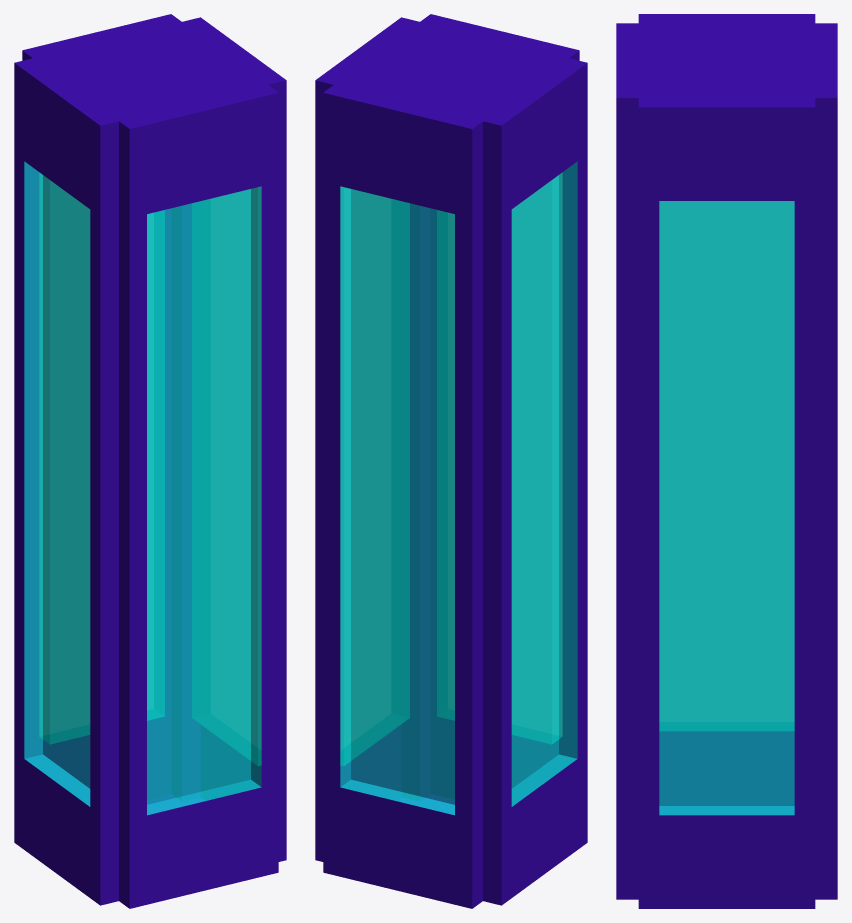
File: skyscraper.gltf
3 renders of one model, left to right at view 1: azimuth 30°, elevation 25°; view 2: azimuth 150°, elevation 25°; view 3: azimuth 270°, elevation 25°, orthographic. The views are drawn at different scales.
Visible parts, largest first — view 1: Cube; view 2: Cube; view 3: Cube.
Boxes of the visible parts, x1,y1,x2,y2 form: Cube: [14, 14, 286, 908]; Cube: [315, 14, 587, 908]; Cube: [616, 14, 837, 908].
Size of the model in its own units: 5 by 20 by 5.
